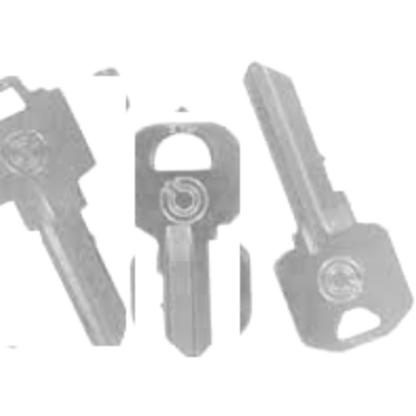key: (252, 66, 397, 364), (0, 76, 126, 346), (135, 112, 240, 357)
